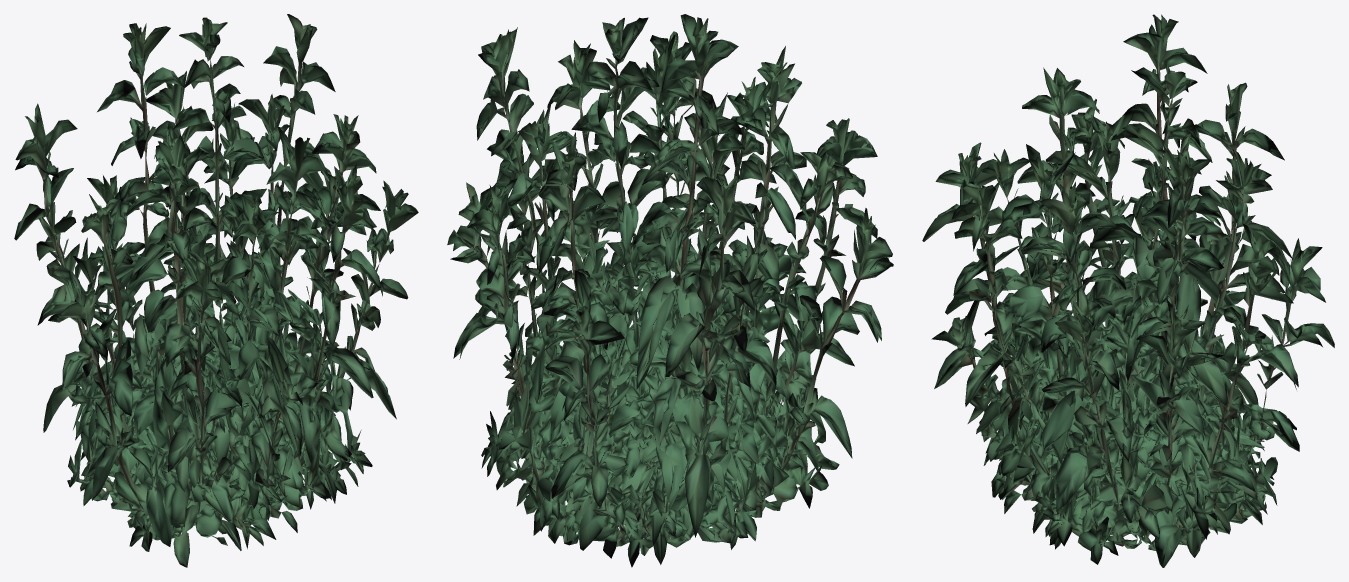
The model's file is peppermint.glb.
3 renders of one model, left to right at view 1: azimuth 30°, elevation 25°; view 2: azimuth 150°, elevation 25°; view 3: azimuth 270°, elevation 25°, orthographic. The views are drawn at different scales.
Parts seen in each view (by area): view 1: Mesh_0.002; view 2: Mesh_0.002; view 3: Mesh_0.002.
Part boxes in pixels (x1,y1,x2,y2): Mesh_0.002: [14, 14, 418, 567]; Mesh_0.002: [447, 14, 893, 567]; Mesh_0.002: [922, 14, 1334, 567].
Bounding box in the file's own units: 1.2 × 1.5 × 1.2.
